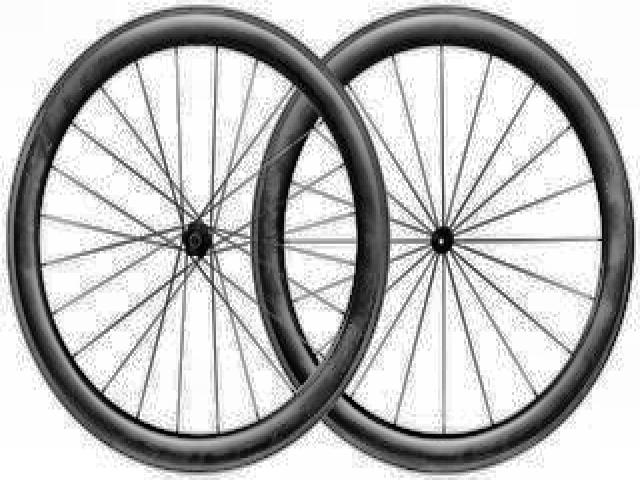wheel: (7, 3, 391, 479), (249, 3, 638, 471)
